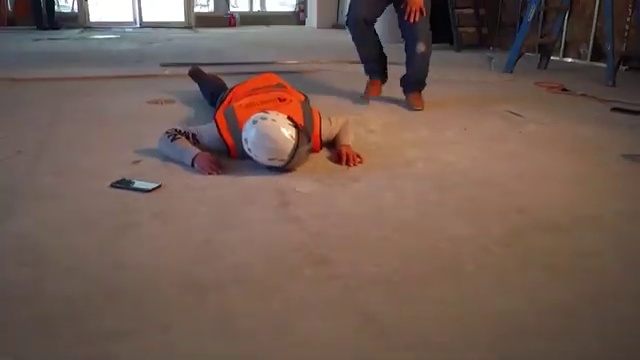helmet: (236, 107, 306, 170)
jacket: (227, 69, 313, 102)
